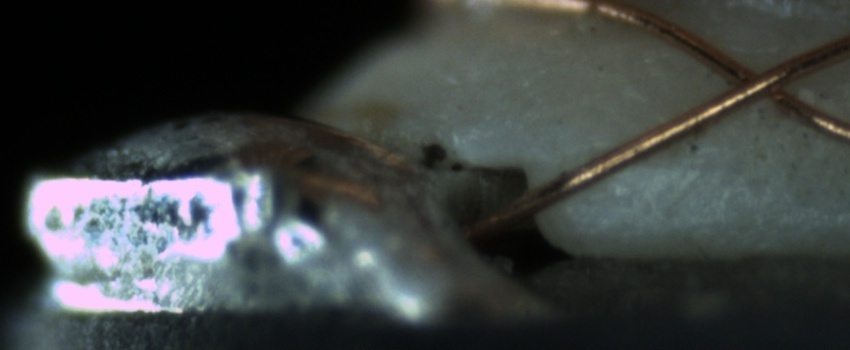CL: (705, 48, 814, 116)
